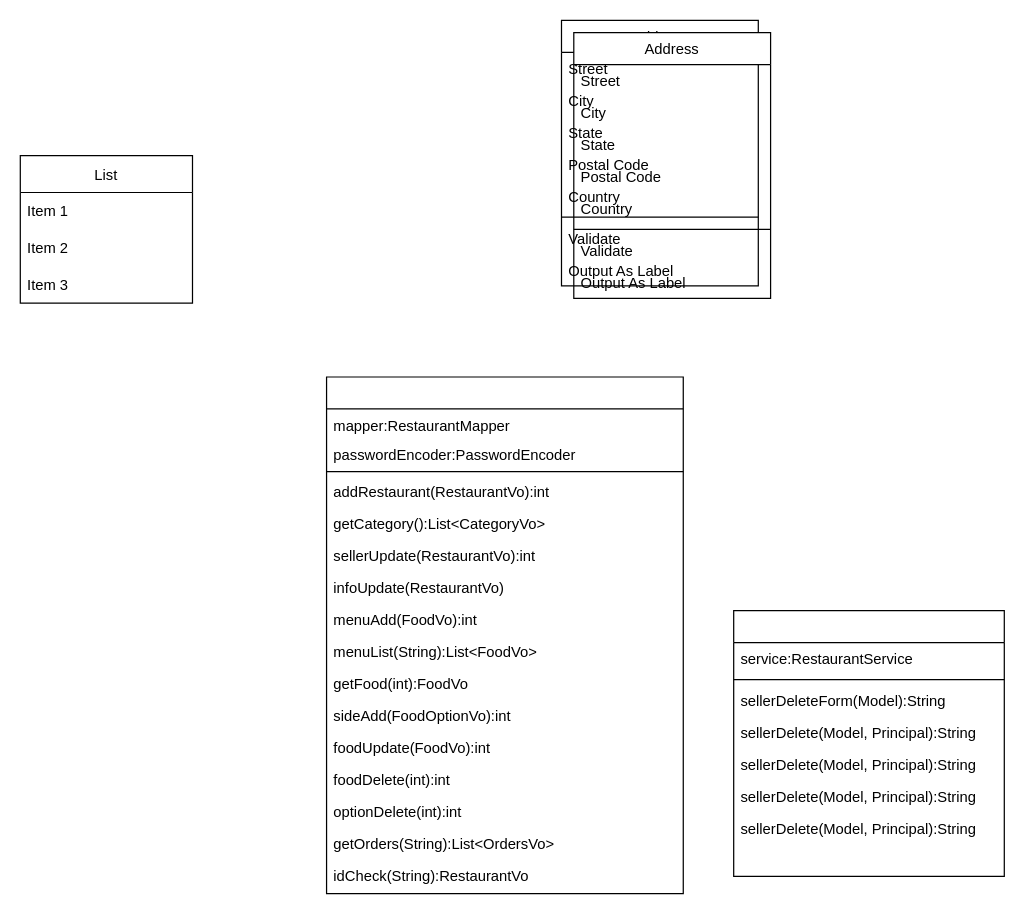
The diagram is 1025 pixels wide and 914 high, and some of its shapes have lost their labels. Each missing label, with the box of its shape:
RestaurantService: (325, 376, 683, 894)
SellerDeleteController: (732, 609, 1004, 876)
